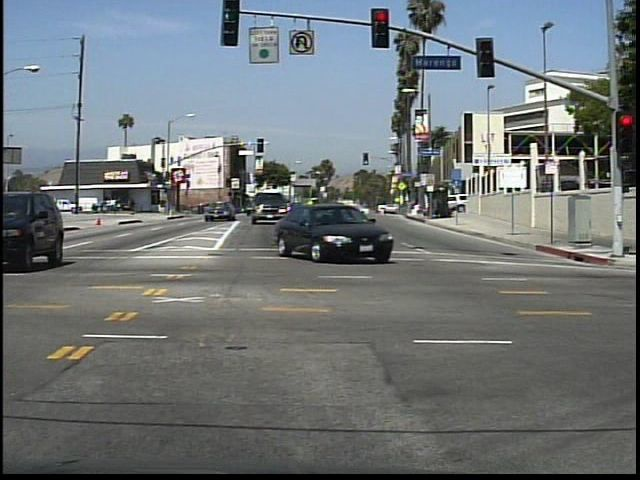person: (129, 195, 140, 219)
